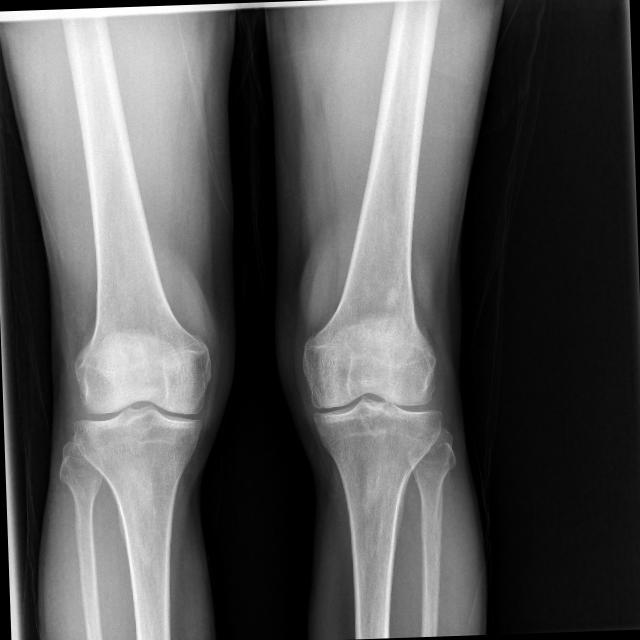Knee: (67, 347, 214, 471), (298, 335, 442, 457)
